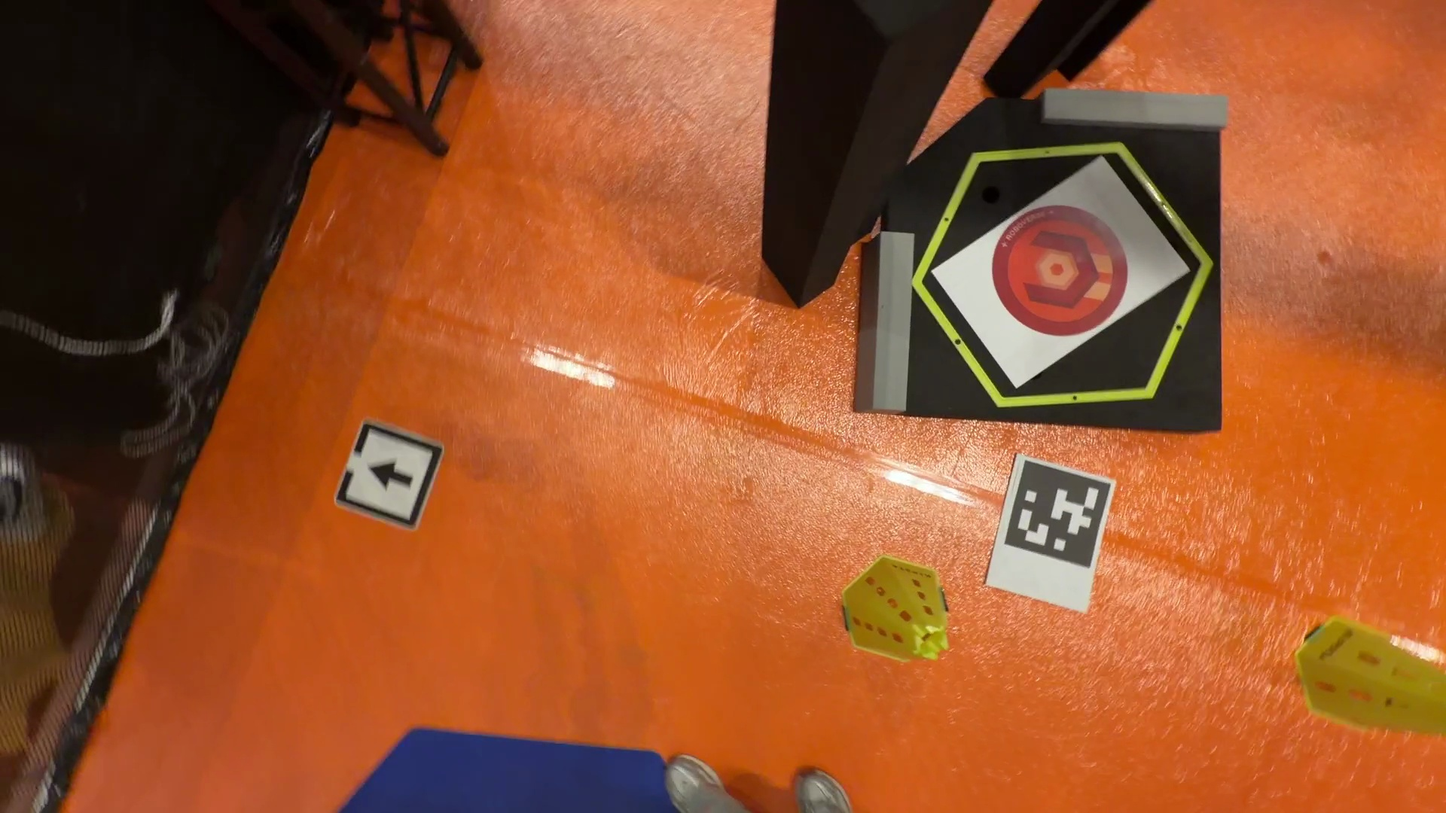landing_pad: (992, 205, 1131, 335)
